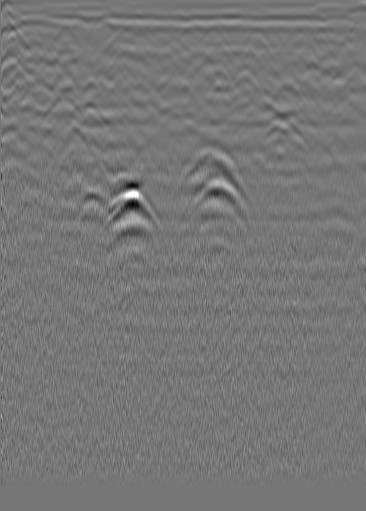가스: (102, 192, 157, 231)
상수: (304, 20, 324, 40)
오수: (24, 26, 44, 46)
우수: (185, 20, 205, 40)
